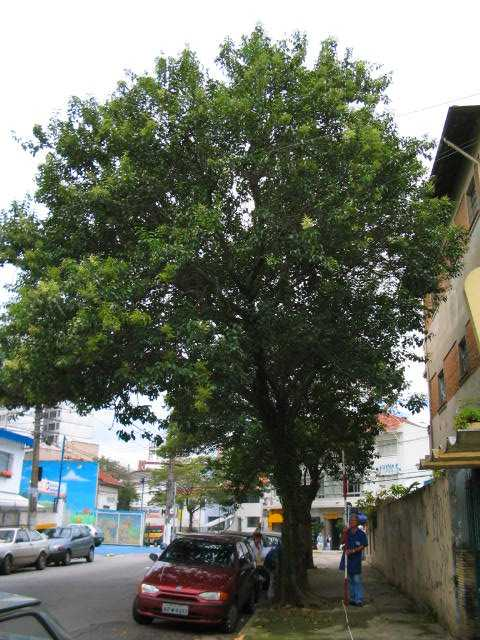crown: (5, 20, 471, 487)
stem: (264, 502, 327, 608)
stick: (338, 447, 351, 606)
tree: (3, 19, 473, 610)
